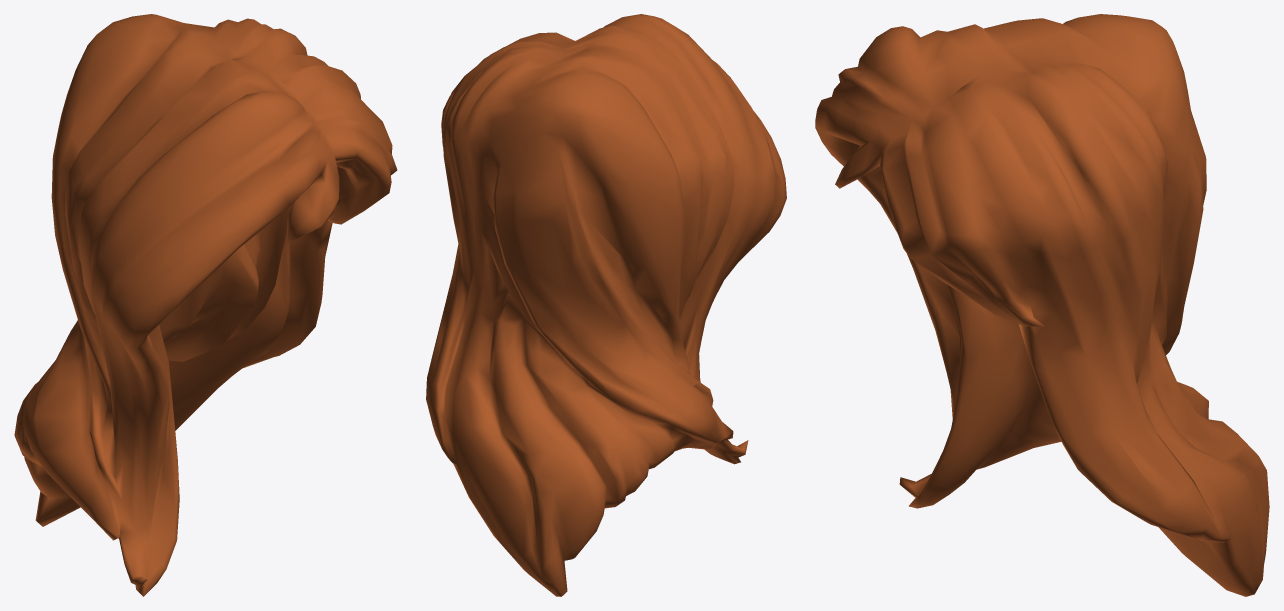
The picture shows the model from 3 angles, left to right: view 1: azimuth 30°, elevation 25°; view 2: azimuth 150°, elevation 25°; view 3: azimuth 270°, elevation 25°; orthographic projection. The views are drawn at different scales.
Visible parts, largest first — view 1: Wolf3D_Hair.125; view 2: Wolf3D_Hair.125; view 3: Wolf3D_Hair.125.
Boxes of the visible parts, bbox=[...] form: Wolf3D_Hair.125: bbox=[14, 14, 397, 596]; Wolf3D_Hair.125: bbox=[426, 14, 786, 596]; Wolf3D_Hair.125: bbox=[815, 14, 1269, 596].
Bounding box in the file's own units: 0.2422 × 0.3967 × 0.2723.
Materials: 1 (1 with a texture image).
